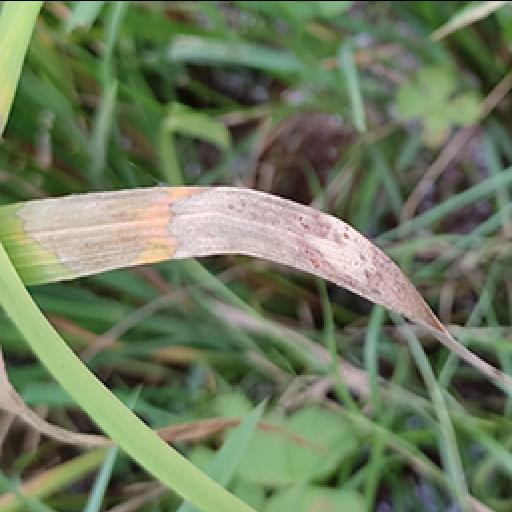Sheath Blight: (10, 140, 486, 368)
